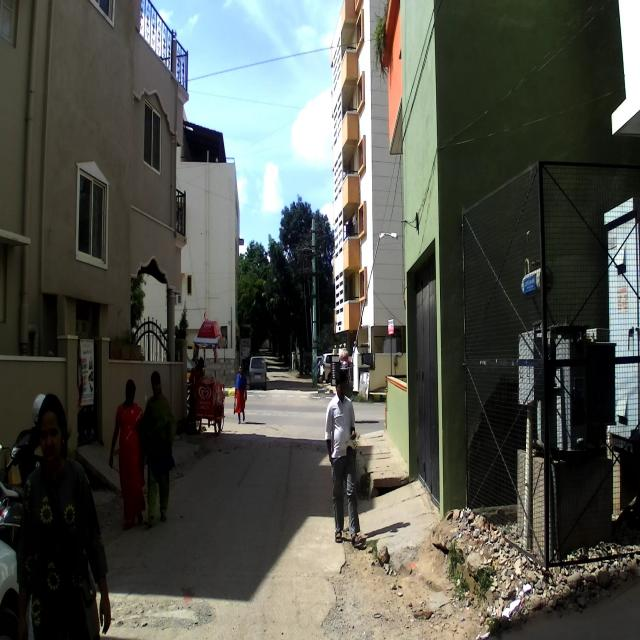scooter: (0, 394, 47, 555)
